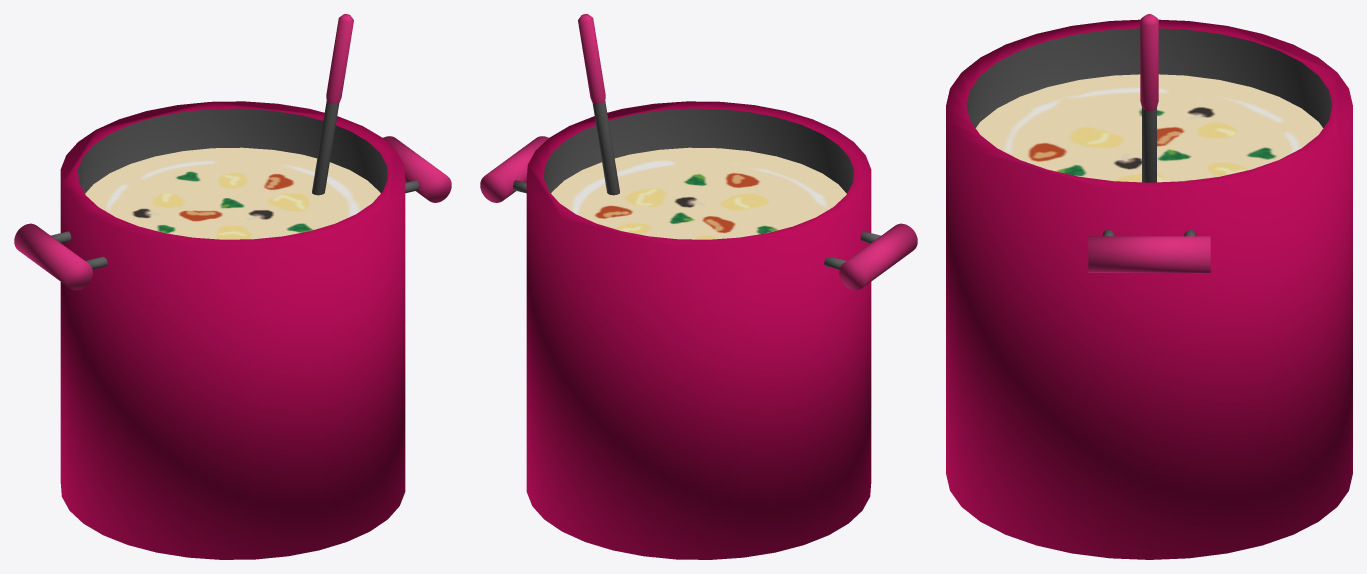
File: nabe.fbx
3 views of the same model, side by side, from view 1: azimuth 30°, elevation 25°; view 2: azimuth 150°, elevation 25°; view 3: azimuth 270°, elevation 25° (orthographic). The views are drawn at different scales.
Parts seen in each view (by area): view 1: nabe, motite, nabe.001, totte; view 2: nabe, motite, nabe.001, totte; view 3: nabe, motite, nabe.001, totte.
Boxes of the visible parts, x1,y1,x2,y2 form: nabe: [60, 101, 405, 559]; motite: [85, 14, 380, 239]; nabe.001: [78, 108, 387, 193]; totte: [14, 136, 451, 290]; nabe: [526, 101, 871, 559]; motite: [551, 14, 846, 239]; nabe.001: [544, 108, 853, 193]; totte: [480, 136, 917, 290]; nabe: [946, 19, 1352, 559]; motite: [975, 14, 1323, 182]; nabe.001: [966, 28, 1332, 127]; totte: [1088, 236, 1210, 272].
Size of the model in its own units: 258 by 284 by 200.
Materials: 7 (7 with a texture image).
